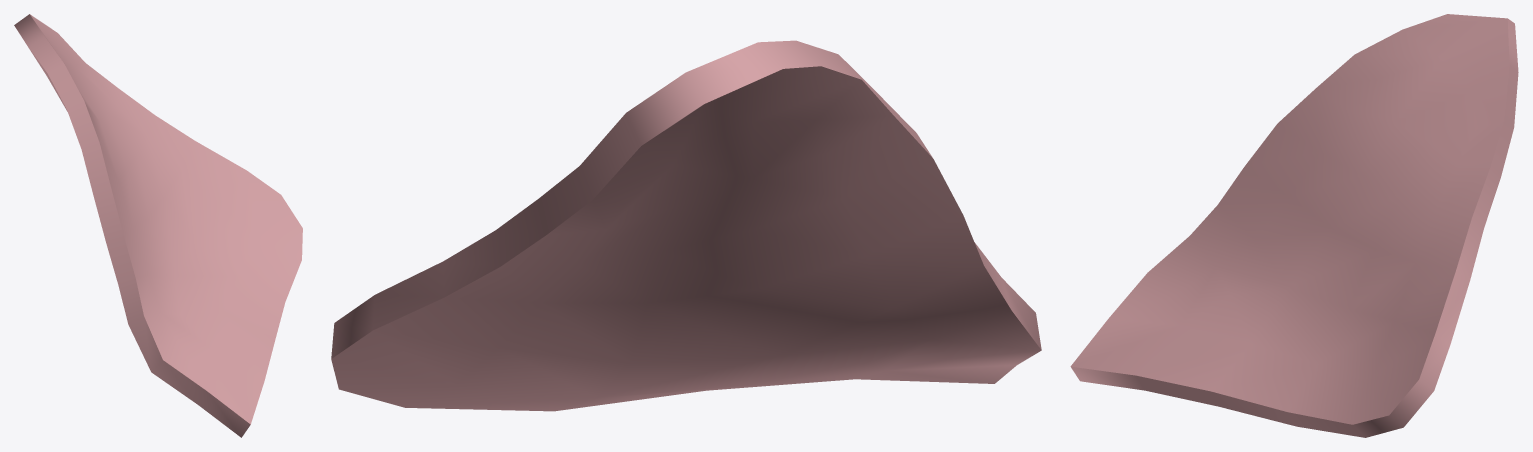
The picture shows the model from 3 angles, left to right: view 1: azimuth 30°, elevation 25°; view 2: azimuth 150°, elevation 25°; view 3: azimuth 270°, elevation 25°; orthographic projection. The views are drawn at different scales.
Parts seen in each view (by area): view 1: ZA_1fbb20b0196ad837; view 2: ZA_1fbb20b0196ad837; view 3: ZA_1fbb20b0196ad837.
Part boxes in pixels (x1,y1,x2,y2): ZA_1fbb20b0196ad837: (14, 14, 302, 437); ZA_1fbb20b0196ad837: (331, 40, 1041, 411); ZA_1fbb20b0196ad837: (1070, 14, 1518, 437).
Bounding box in the file's own units: 0.0453 × 0.0505 × 0.0591.
